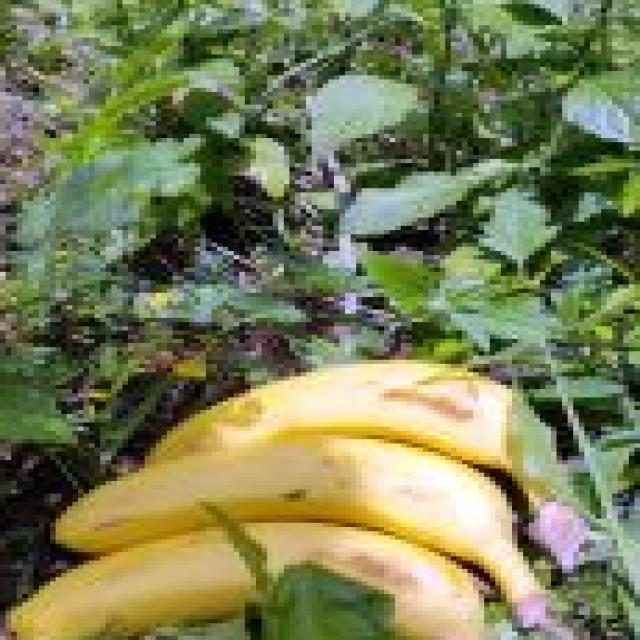Good_Banana-2-3 days: (8, 360, 584, 640)
